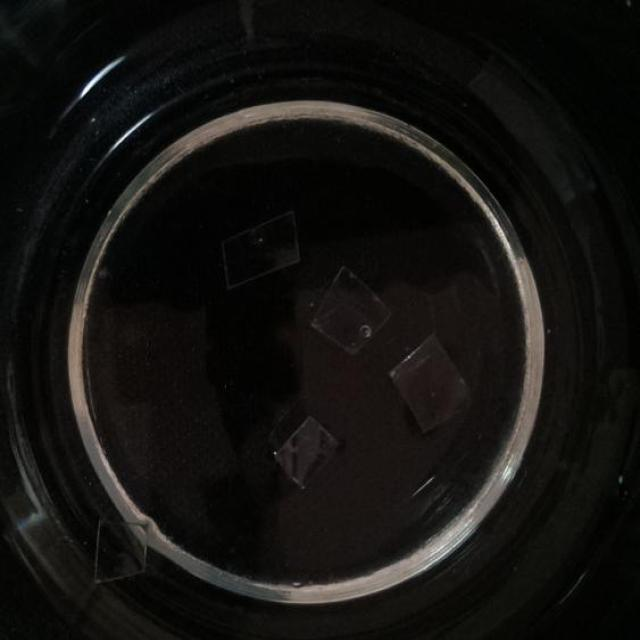fiber: (392, 330, 471, 431), (311, 261, 390, 355), (220, 212, 301, 286), (269, 415, 339, 492), (90, 516, 145, 588)
